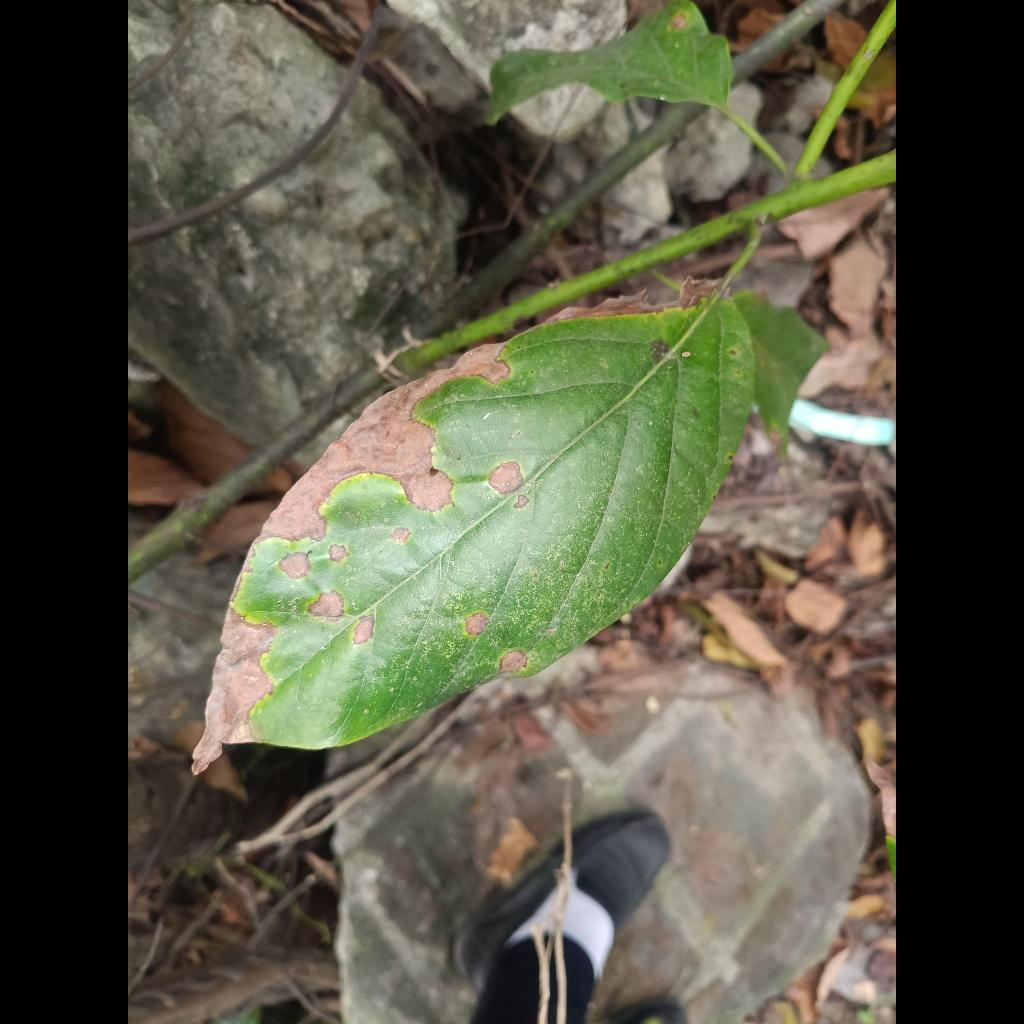Anthracnose: (204, 299, 753, 754)
